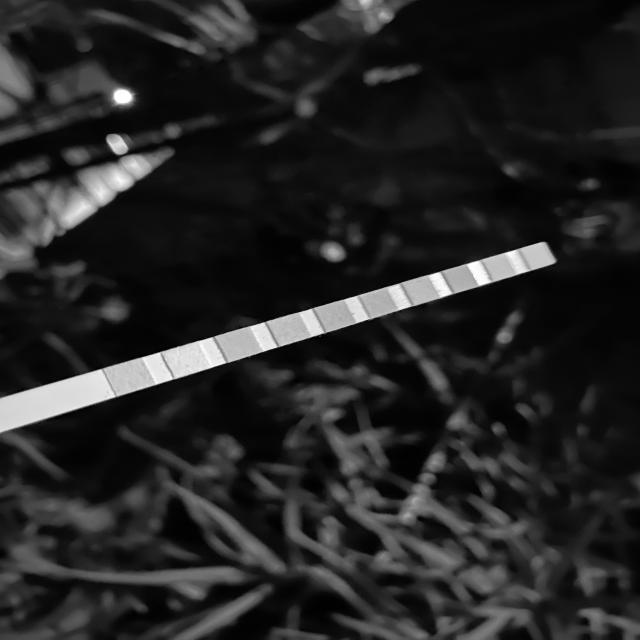Bilirubin: (169, 349, 203, 370)
Blood: (322, 305, 348, 325)
Glucose: (113, 366, 145, 387)
Ketone: (224, 334, 253, 354)
Leukocytes: (528, 247, 547, 264)
Nitrite: (489, 257, 507, 275)
Protein: (410, 280, 431, 298)
SpGravity: (276, 318, 302, 339)
Urobilinogen: (449, 268, 469, 287)
background: (0, 0, 640, 640)
pH: (369, 294, 391, 312)
strip: (0, 242, 557, 434)
